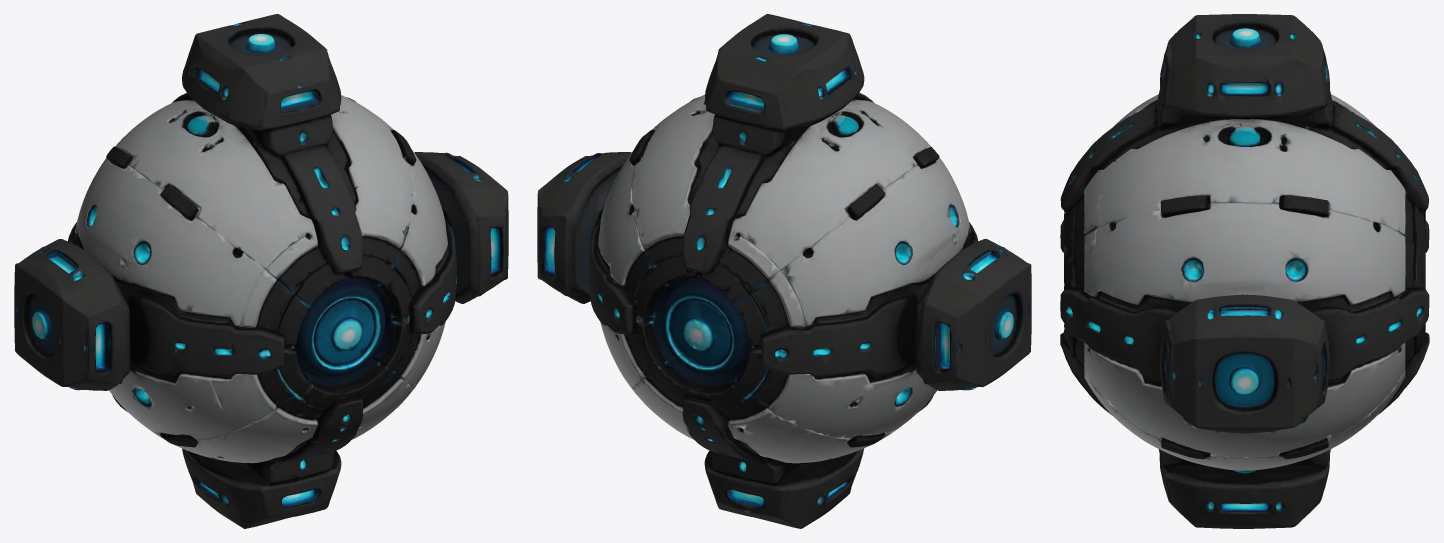
Rendered from pet-drone-lv2.glb.
The picture shows the model from 3 angles, left to right: view 1: azimuth 30°, elevation 25°; view 2: azimuth 150°, elevation 25°; view 3: azimuth 270°, elevation 25°; orthographic projection. The views are drawn at different scales.
Parts seen in each view (by area): view 1: tripo_node_fa5ce7b4-da34-4b13-b7c8-6fbd03499d86; view 2: tripo_node_fa5ce7b4-da34-4b13-b7c8-6fbd03499d86; view 3: tripo_node_fa5ce7b4-da34-4b13-b7c8-6fbd03499d86.
Part boxes in pixels (box(x1,y1,x2,y2)): tripo_node_fa5ce7b4-da34-4b13-b7c8-6fbd03499d86: box(14, 14, 508, 528); tripo_node_fa5ce7b4-da34-4b13-b7c8-6fbd03499d86: box(537, 14, 1031, 528); tripo_node_fa5ce7b4-da34-4b13-b7c8-6fbd03499d86: box(1060, 14, 1429, 528).
Bounding box in the file's own units: 0.9795 × 0.9733 × 0.6847.
Materials: 1 (1 with a texture image).
